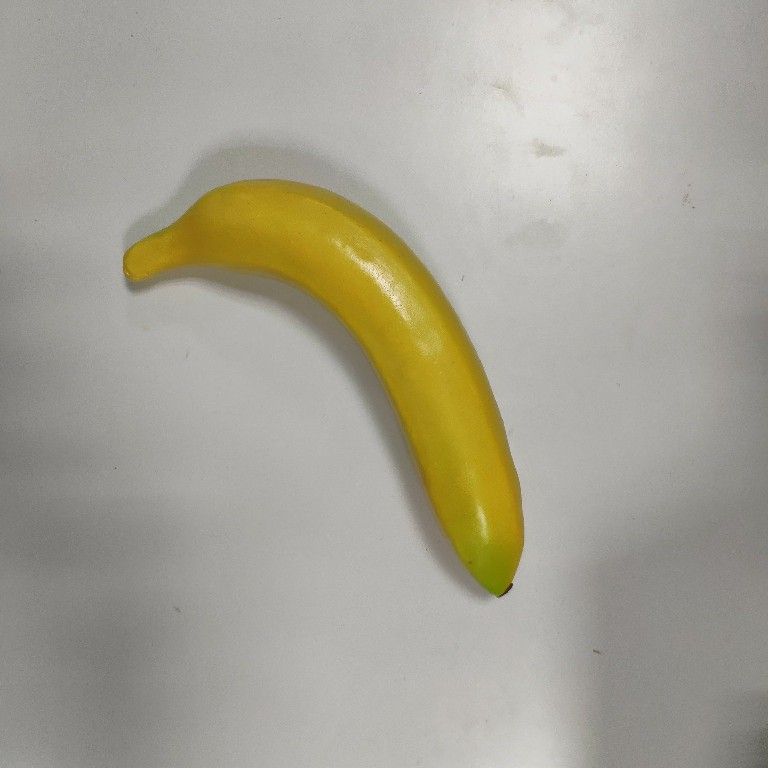fruit_banana: (117, 174, 529, 605)
